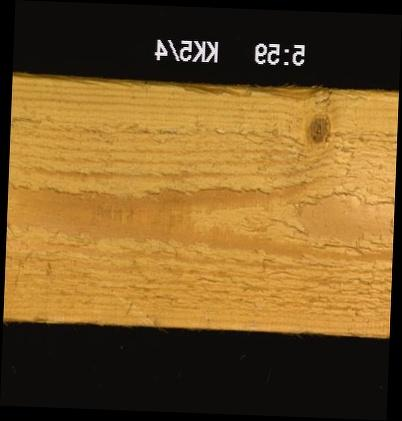sound_knot: (299, 109, 336, 147)
wave: (125, 82, 335, 101)
